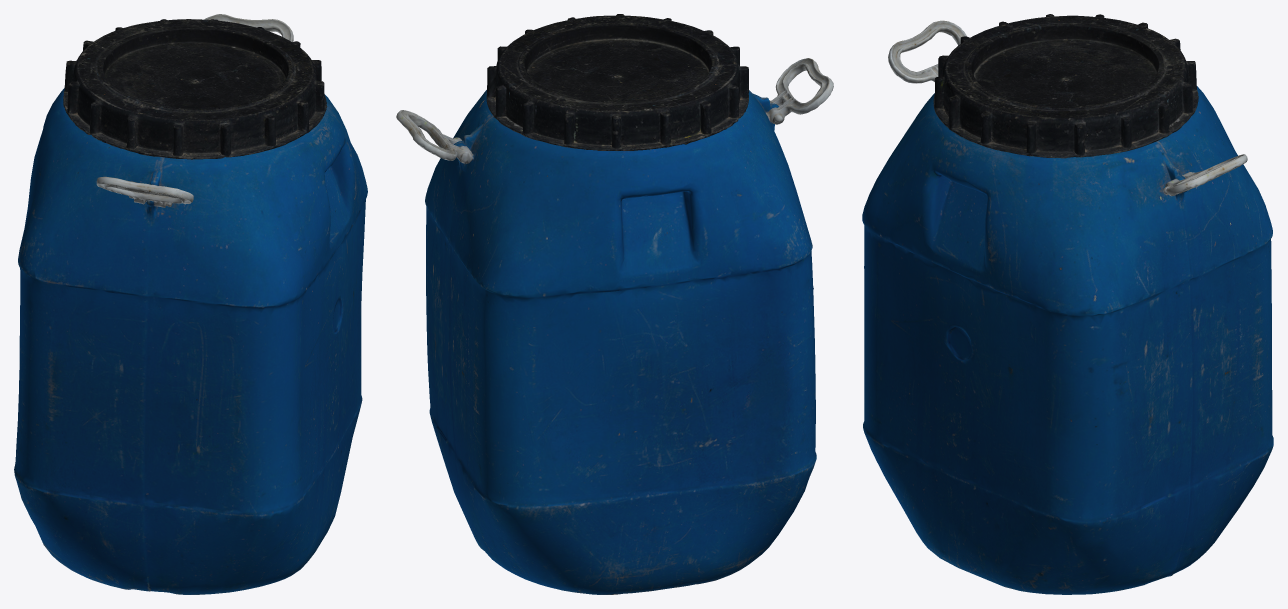
The model's file is drum.glb.
3 views of the same model, side by side, from view 1: azimuth 30°, elevation 25°; view 2: azimuth 150°, elevation 25°; view 3: azimuth 270°, elevation 25° (orthographic).
Parts seen in each view (by area): view 1: Aset_industrial_storage_M_virvfjk_LOD0_2; view 2: Aset_industrial_storage_M_virvfjk_LOD0_2; view 3: Aset_industrial_storage_M_virvfjk_LOD0_2.
Part boxes in pixels (bbox=[...]): Aset_industrial_storage_M_virvfjk_LOD0_2: bbox=[14, 14, 367, 594]; Aset_industrial_storage_M_virvfjk_LOD0_2: bbox=[396, 14, 833, 594]; Aset_industrial_storage_M_virvfjk_LOD0_2: bbox=[862, 14, 1273, 594].
Size of the model in its own units: 0.4531 by 0.5751 by 0.4483.
Materials: 1 (1 with a texture image).
